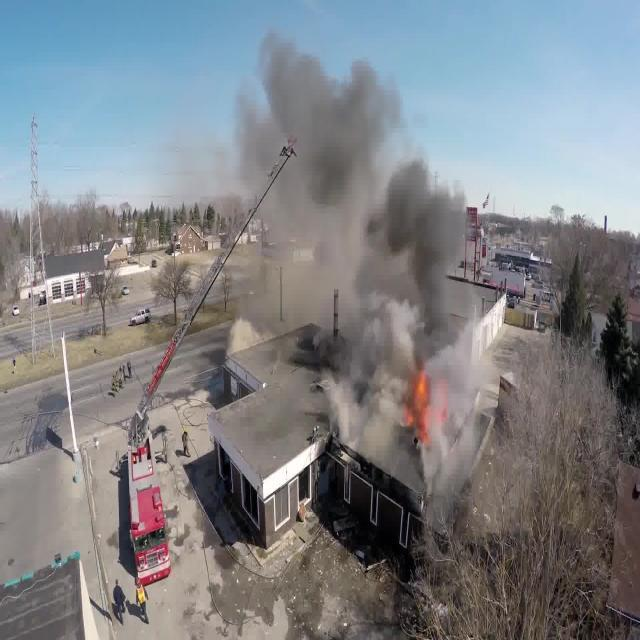Fire: (403, 360, 448, 448)
Smoke: (252, 74, 468, 342), (336, 370, 389, 486), (403, 477, 462, 520), (460, 374, 494, 442)
